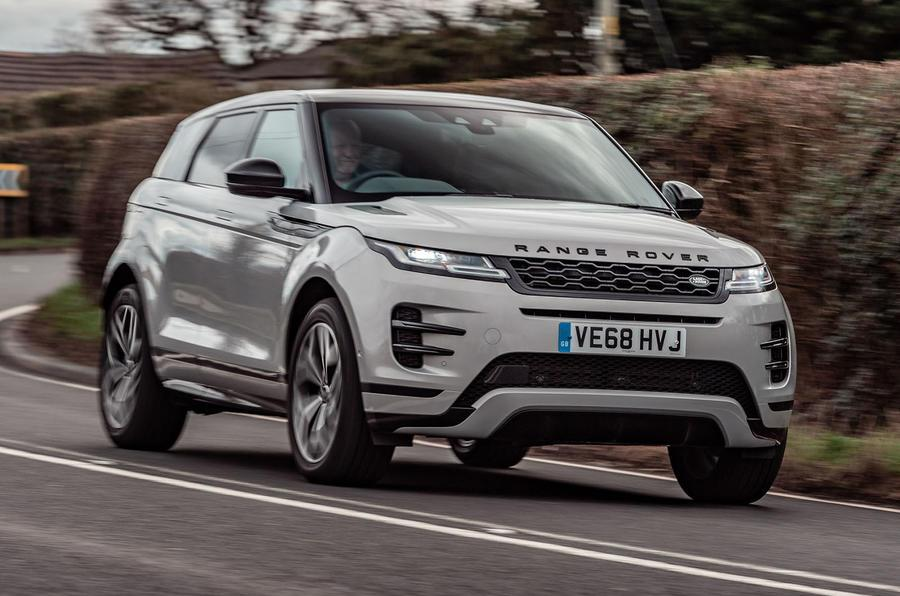car: (100, 91, 822, 499)
